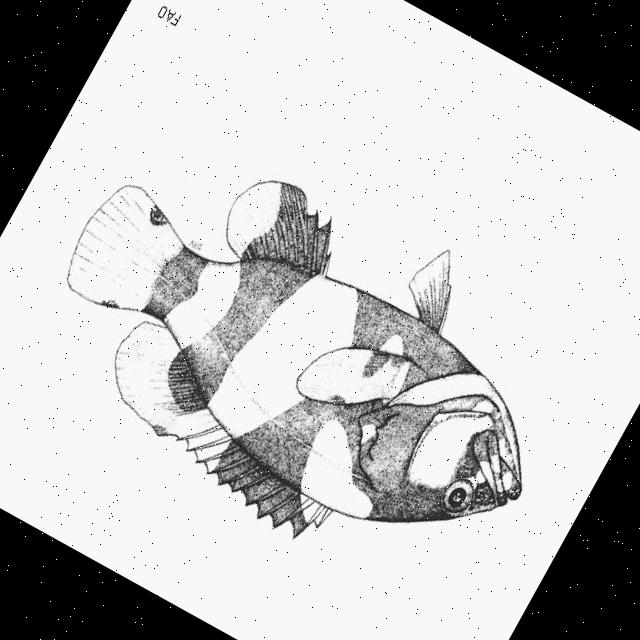ikan: (0, 91, 608, 630)
